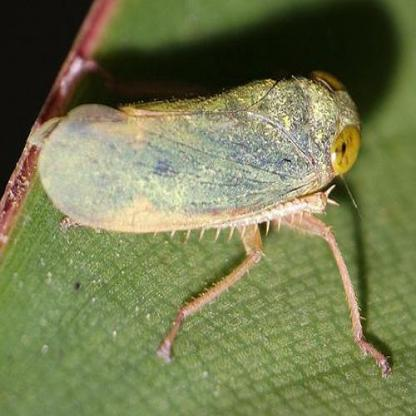green-leafhopper: (32, 76, 352, 262)
